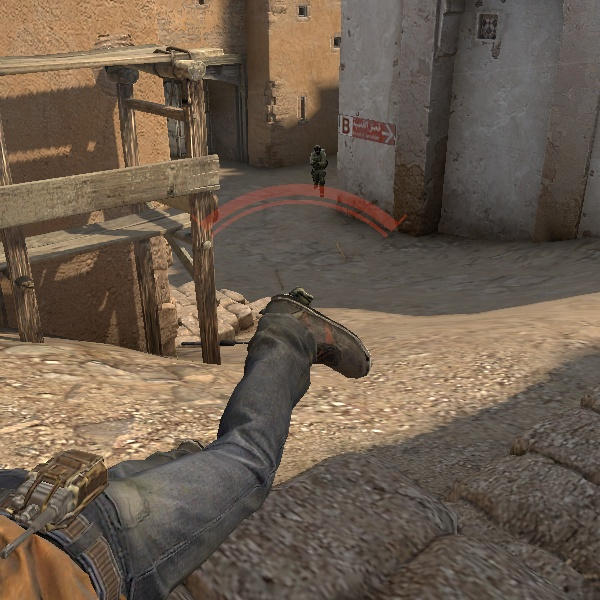ct_body: (304, 141, 330, 189)
